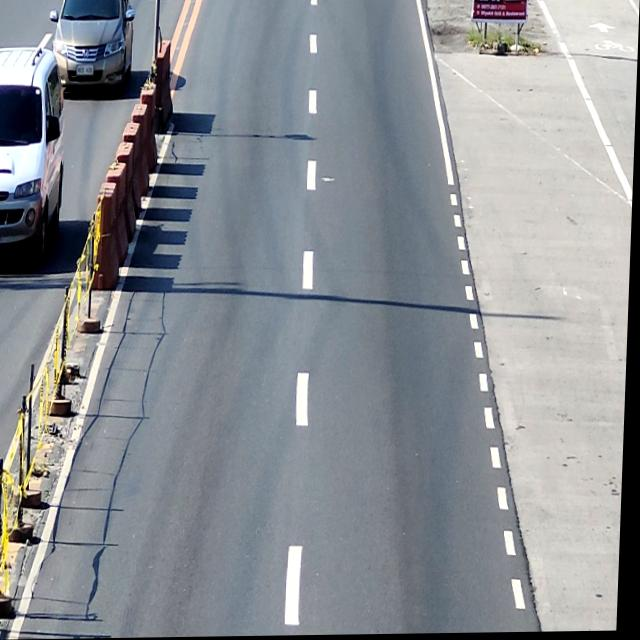Car: (0, 46, 70, 262), (47, 0, 136, 96)
License-Plate: (77, 65, 95, 77), (0, 226, 2, 242)
